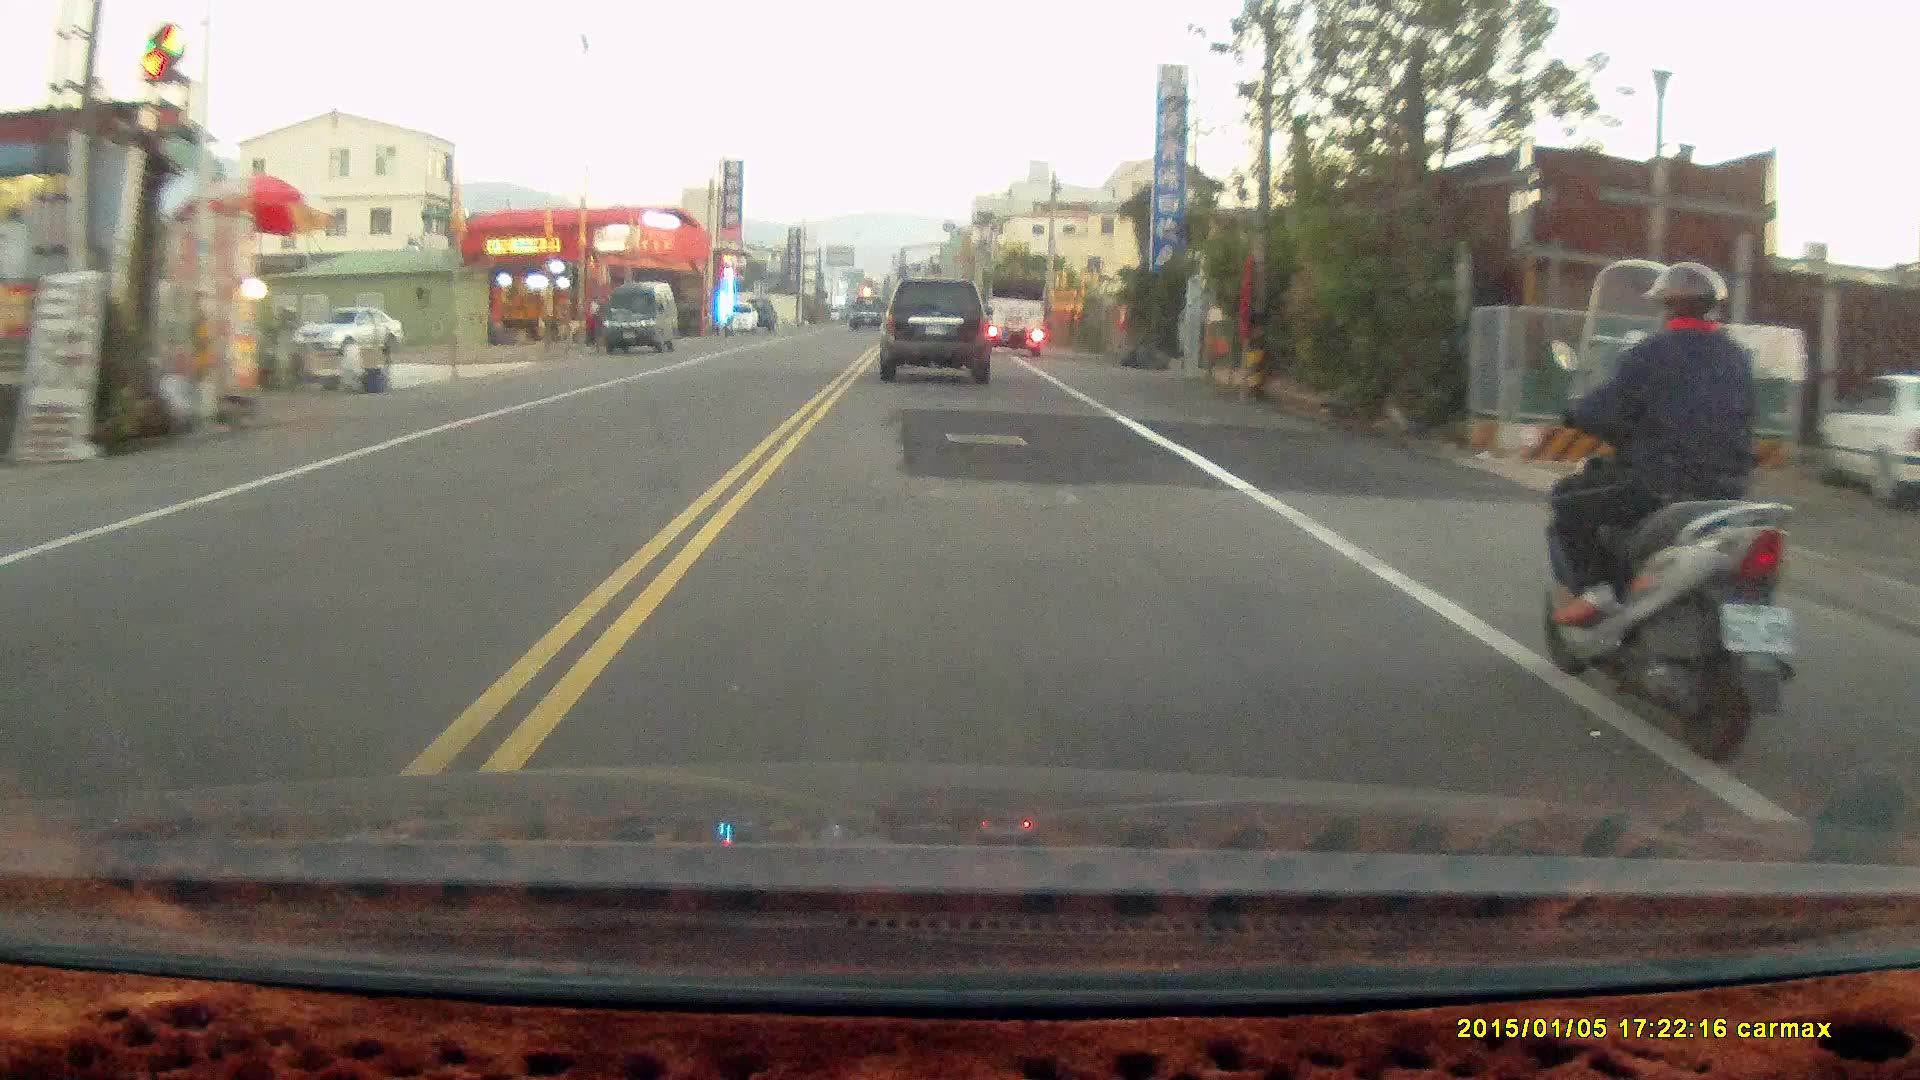rider: (1538, 260, 1794, 760)
vehicle: (879, 281, 996, 389), (602, 282, 680, 357), (296, 308, 404, 356), (986, 274, 1048, 354)
